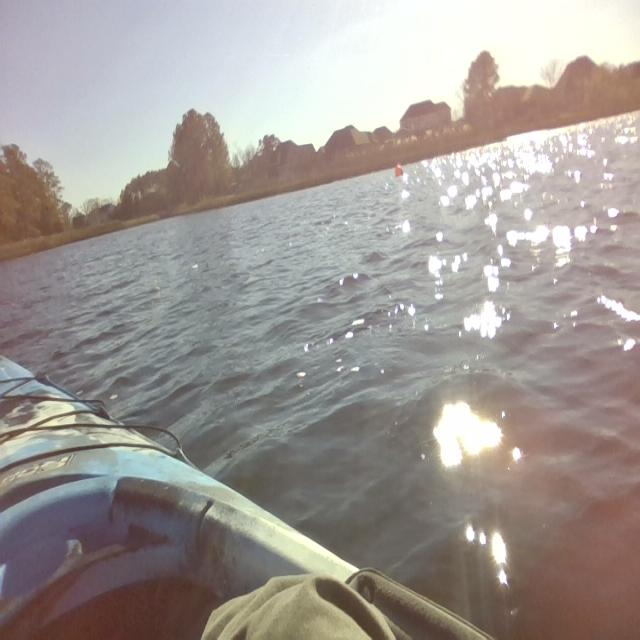Buoy: (393, 161, 406, 183)
